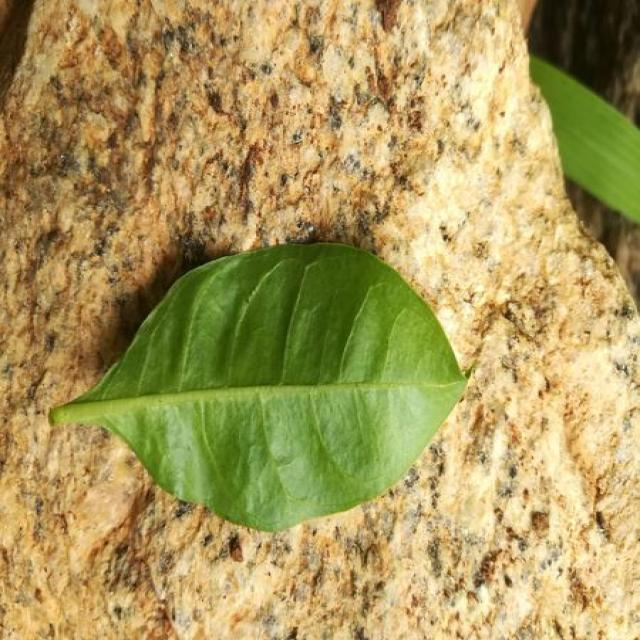henna: (50, 244, 468, 531)
